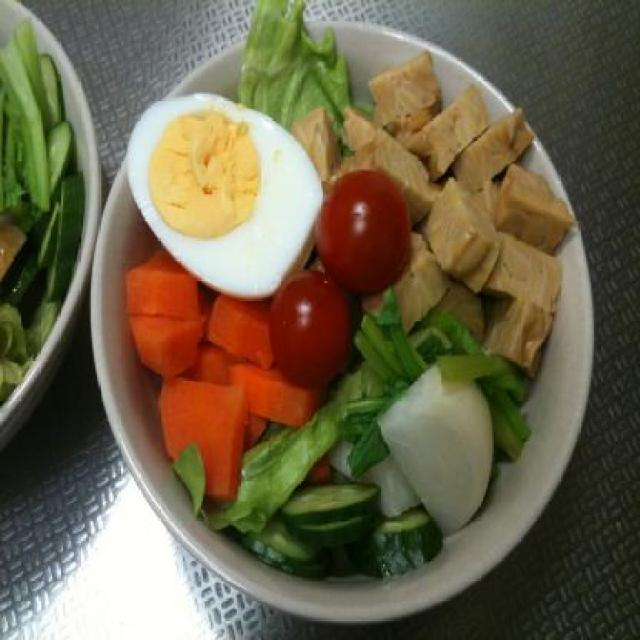Salad: (119, 0, 576, 591), (0, 0, 91, 417)
